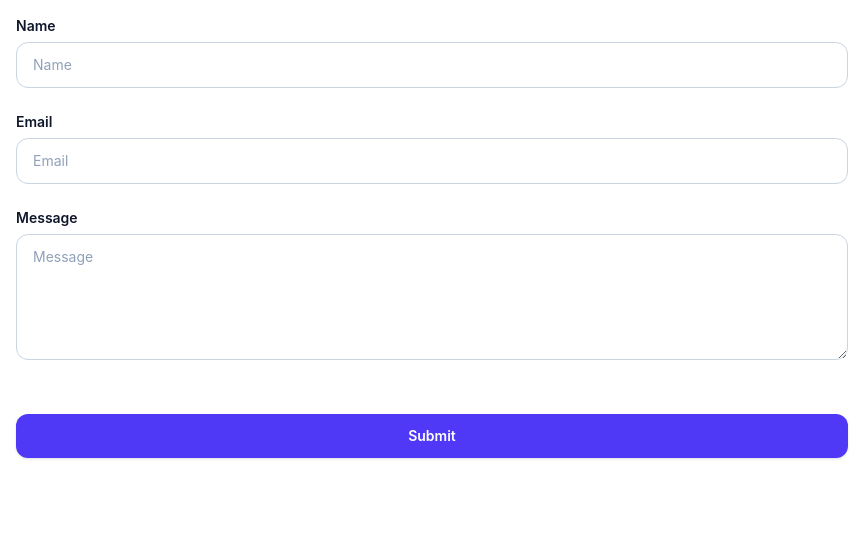
it: ContactForm (unit) › display general error banner after failed submission
The image size is (865, 544).
Step 1. Click the button "Submit" → (432, 436), box 16,414 -> 848,458
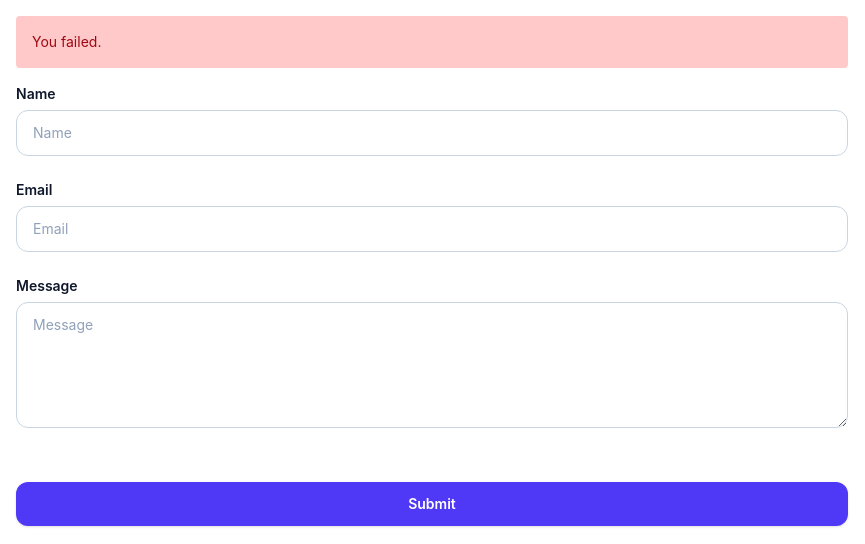
Expected: the text "You failed." is shown, 16,16 -> 848,68
